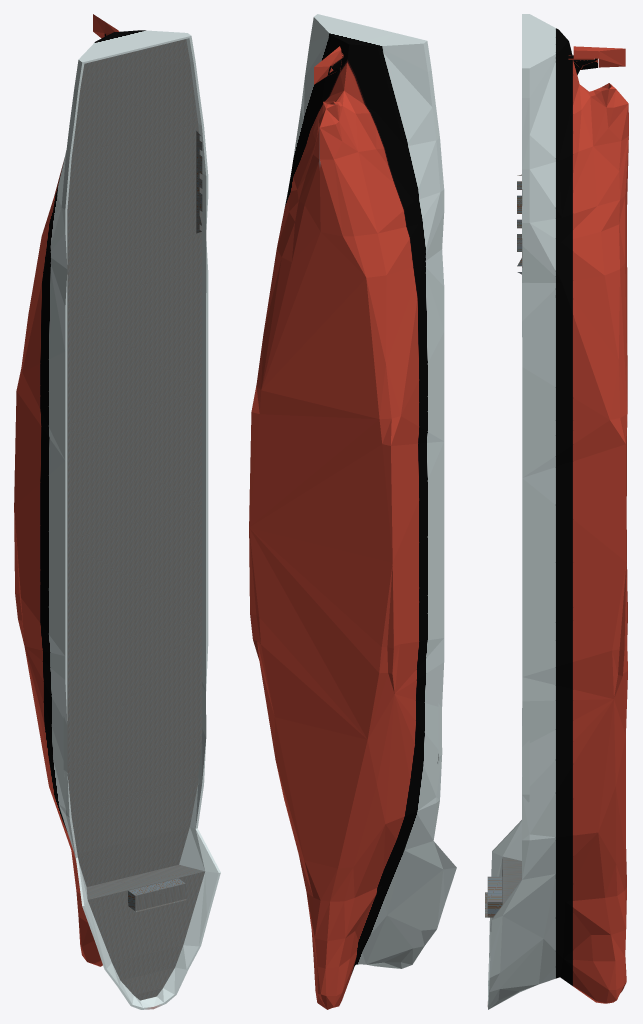
File: SecondShipHullOnly.dae
3 views of the same model, side by side, from view 1: azimuth 30°, elevation 25°; view 2: azimuth 150°, elevation 25°; view 3: azimuth 270°, elevation 25° (orthographic).
Parts seen in each view (by area): view 1: node; view 2: node; view 3: node.
Boxes of the visible parts, box(x1,y1,x2,y2) form: node: box(14, 14, 220, 1009); node: box(249, 14, 456, 1009); node: box(485, 14, 628, 1009).
Size of the model in its own units: 18.19 by 115 by 15.57.
